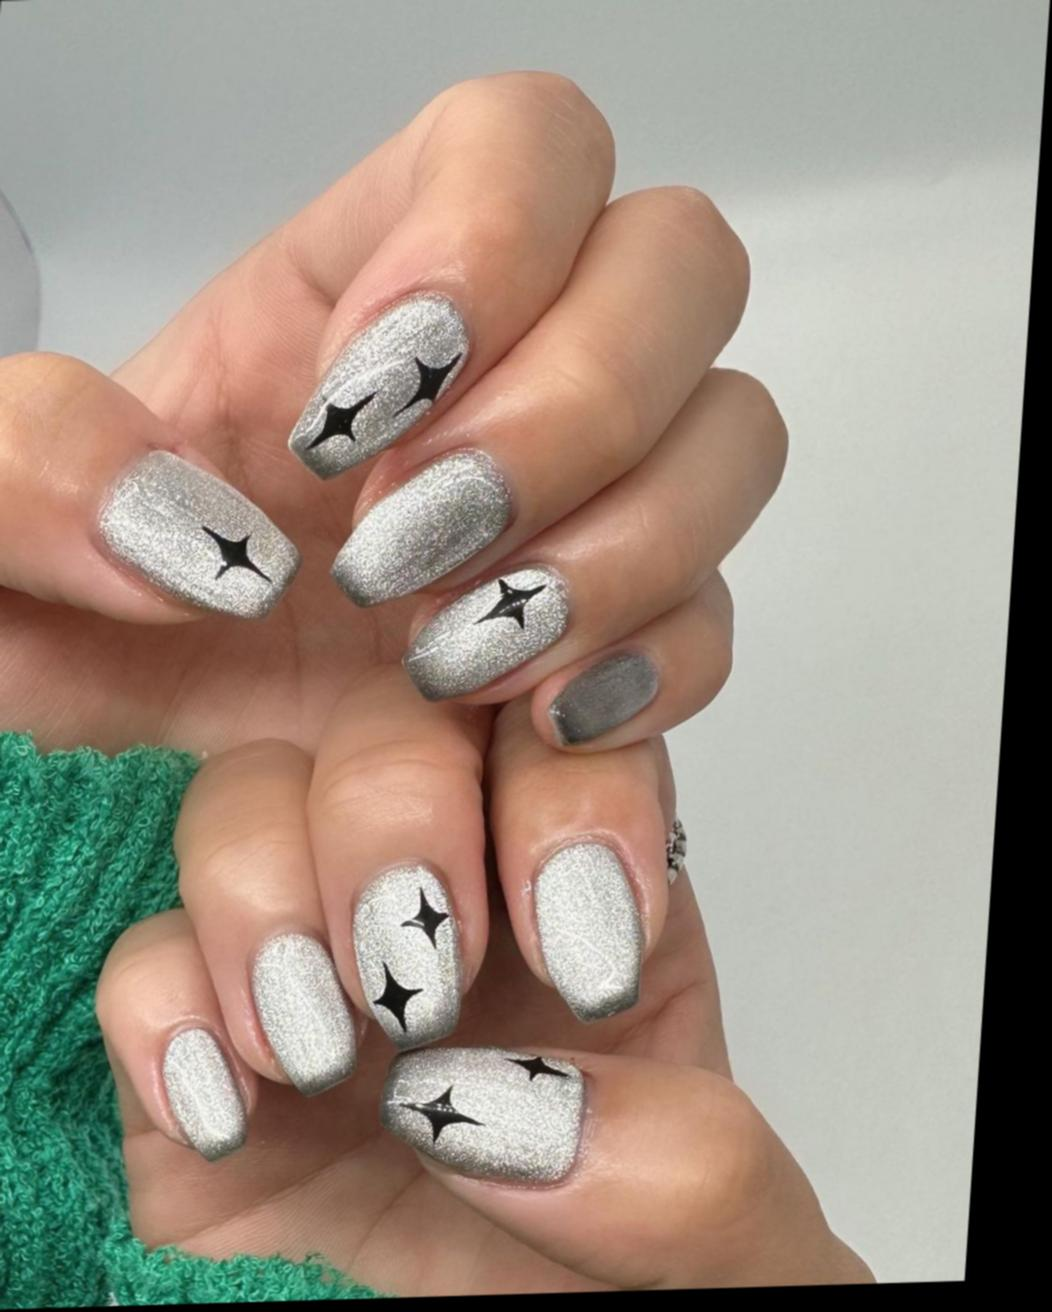nail: (89, 442, 308, 624), (282, 287, 473, 481), (372, 1039, 589, 1190), (326, 442, 516, 607), (340, 856, 470, 1052), (520, 832, 652, 1024), (396, 559, 573, 702), (238, 925, 365, 1098), (152, 1021, 253, 1162), (541, 645, 660, 748)
